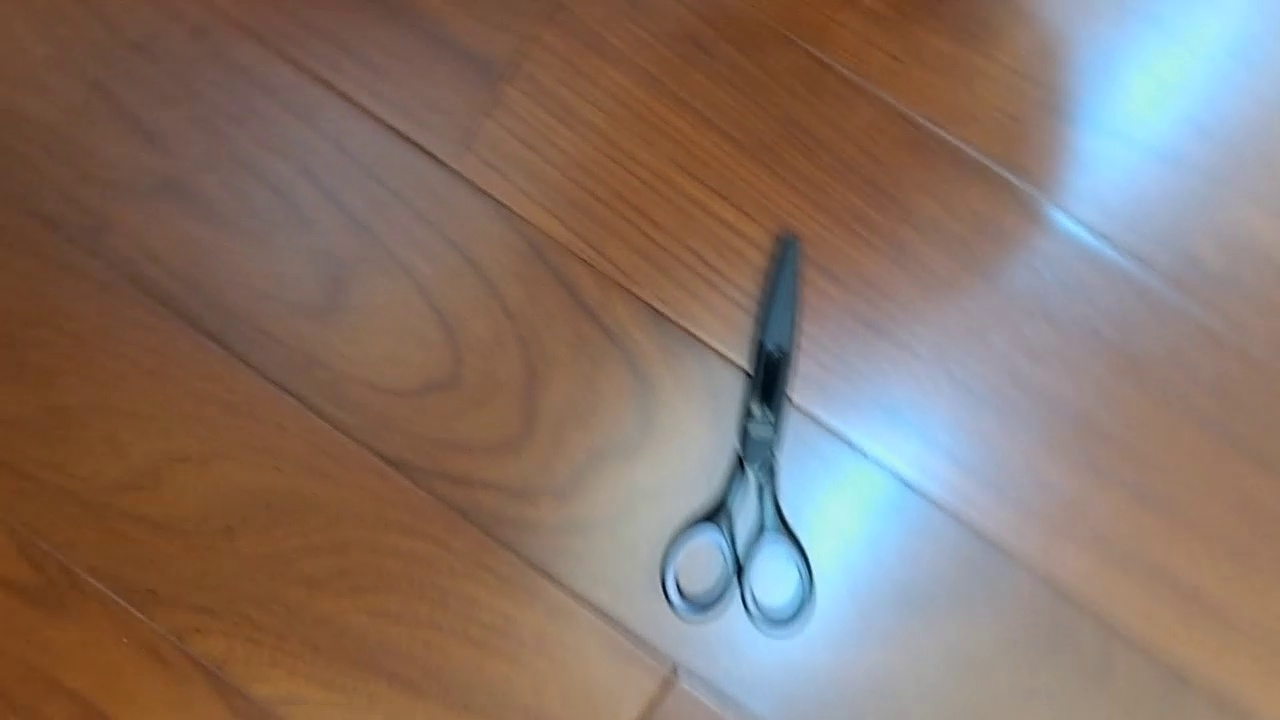scissors: (659, 227, 818, 641)
